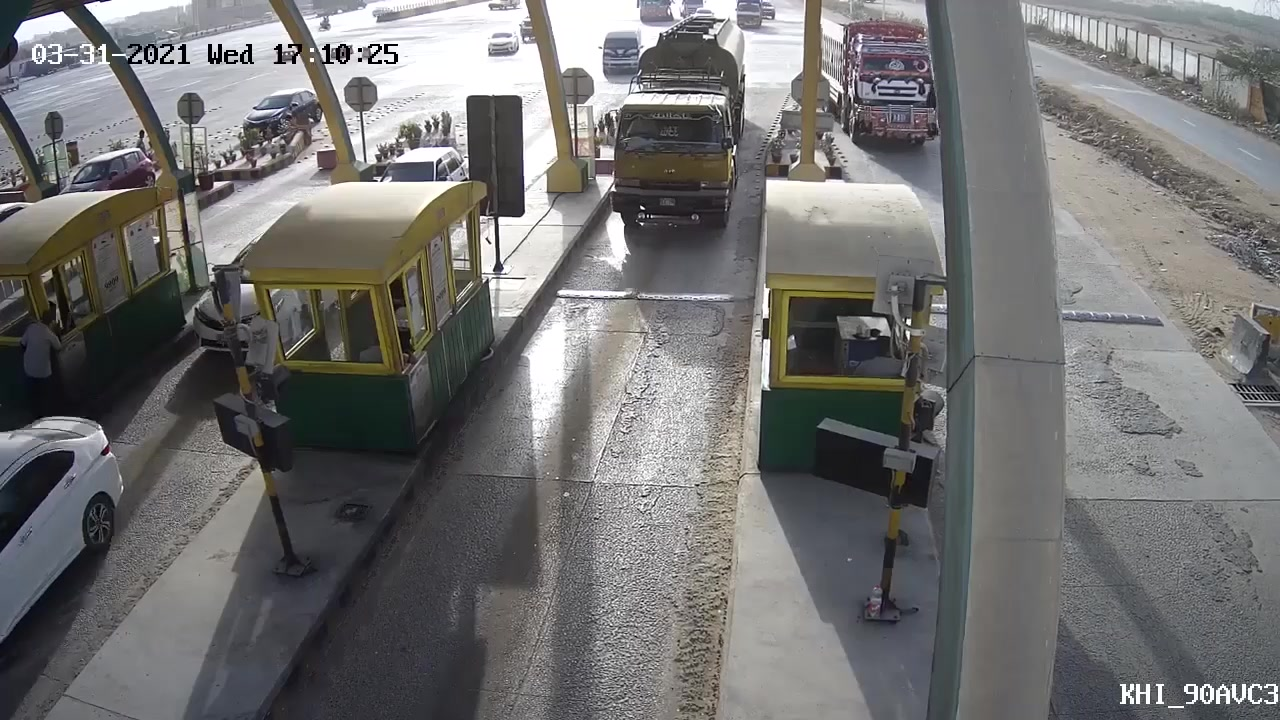F6: (607, 12, 754, 244)
